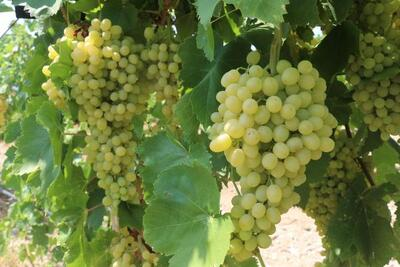Grape: (206, 63, 348, 267), (36, 20, 153, 220), (223, 121, 249, 140), (242, 98, 261, 120), (209, 135, 231, 149)
